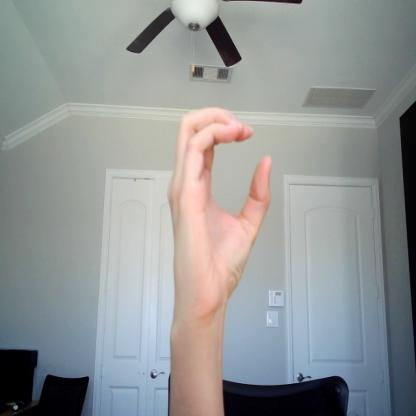C: (167, 105, 275, 297)
